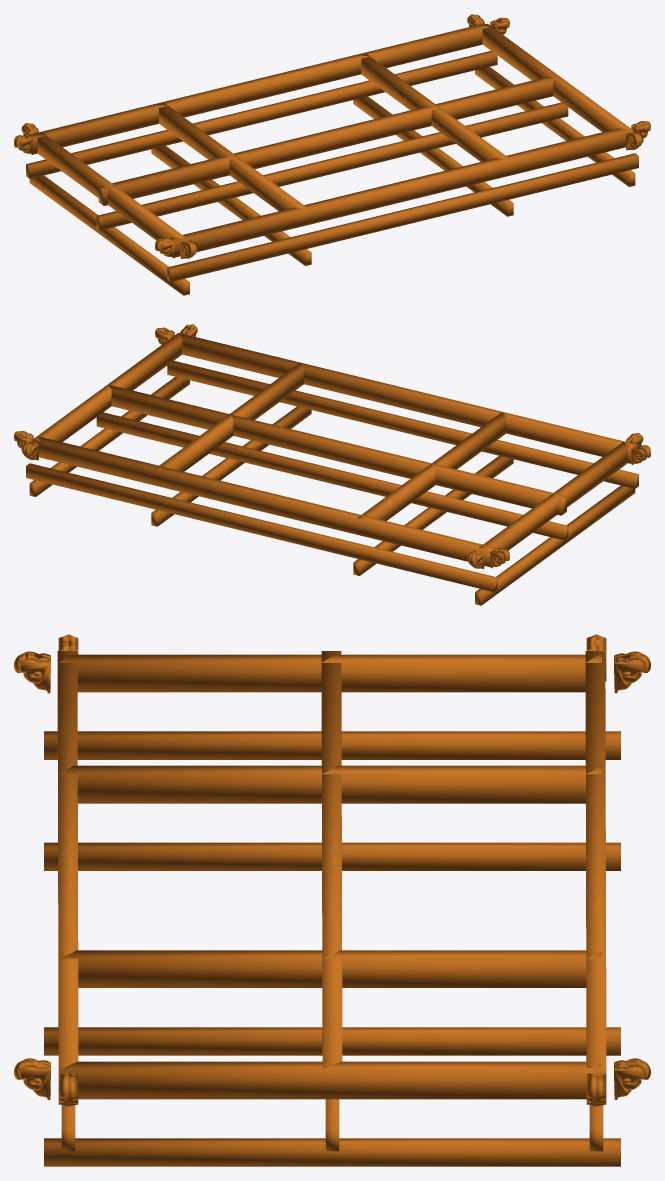
Rendered from building_04.glb.
3 views of the same model, one above another, from view 1: azimuth 30°, elevation 25°; view 2: azimuth 150°, elevation 25°; view 3: azimuth 270°, elevation 25° (orthographic). The views are drawn at different scales.
Visible parts, largest first — view 1: full_building.004; view 2: full_building.004; view 3: full_building.004.
Part boxes in pixels (x1,y1,x2,y2): full_building.004: [14, 14, 650, 295]; full_building.004: [14, 324, 650, 605]; full_building.004: [14, 634, 650, 1166].
Bounding box in the file's own units: 3.23 × 0.345 × 1.92.
